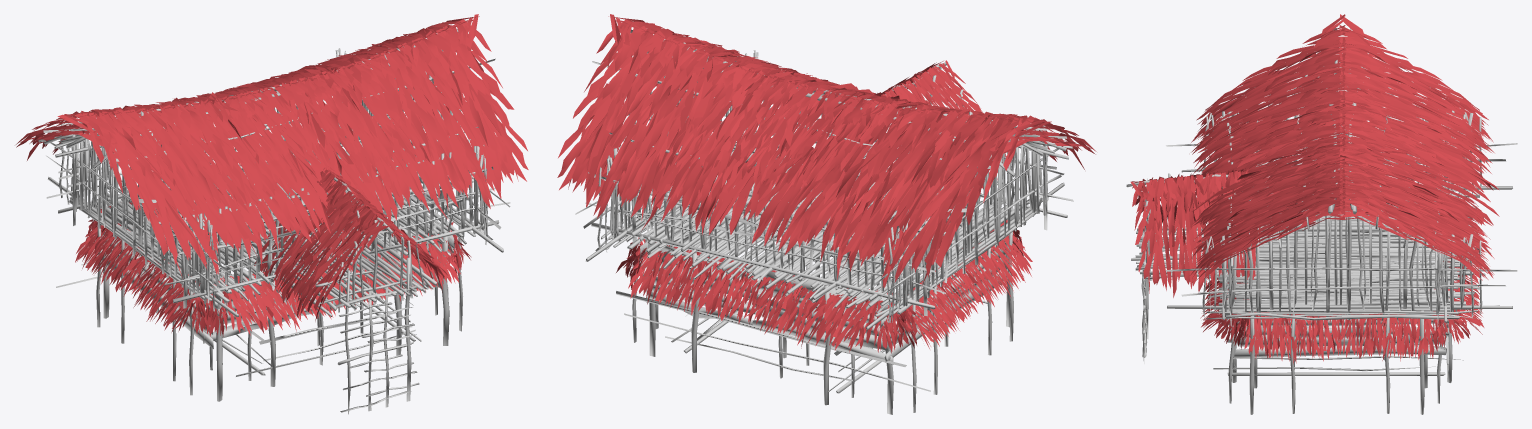
File: lowpoly_Reed_Hut_01.fbx
3 views of the same model, side by side, from view 1: azimuth 30°, elevation 25°; view 2: azimuth 150°, elevation 25°; view 3: azimuth 270°, elevation 25° (orthographic). The views are drawn at different scales.
Visible parts, largest first — view 1: roof_layer2.002, walls; view 2: roof_layer2.002, walls; view 3: roof_layer2.002, walls.
Boxes of the visible parts, x1,y1,x2,y2 form: roof_layer2.002: (16, 14, 528, 336); walls: (38, 29, 510, 414); roof_layer2.002: (557, 14, 1096, 353); walls: (575, 29, 1073, 414); roof_layer2.002: (1130, 14, 1499, 364); walls: (1126, 28, 1517, 414).
Size of the model in its own units: 66.4 by 39.91 by 58.08.
